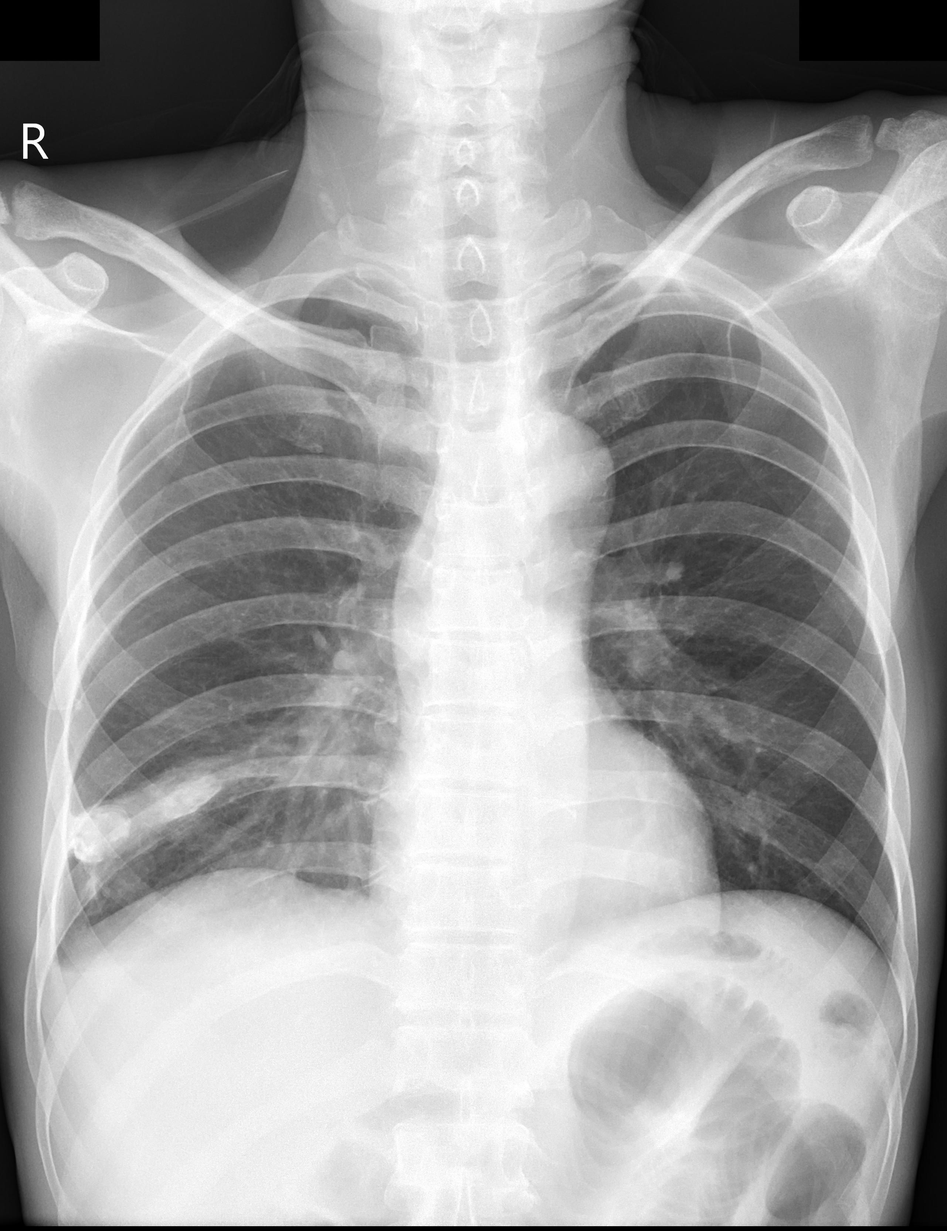Pleural thickening: (44, 944, 79, 979)
